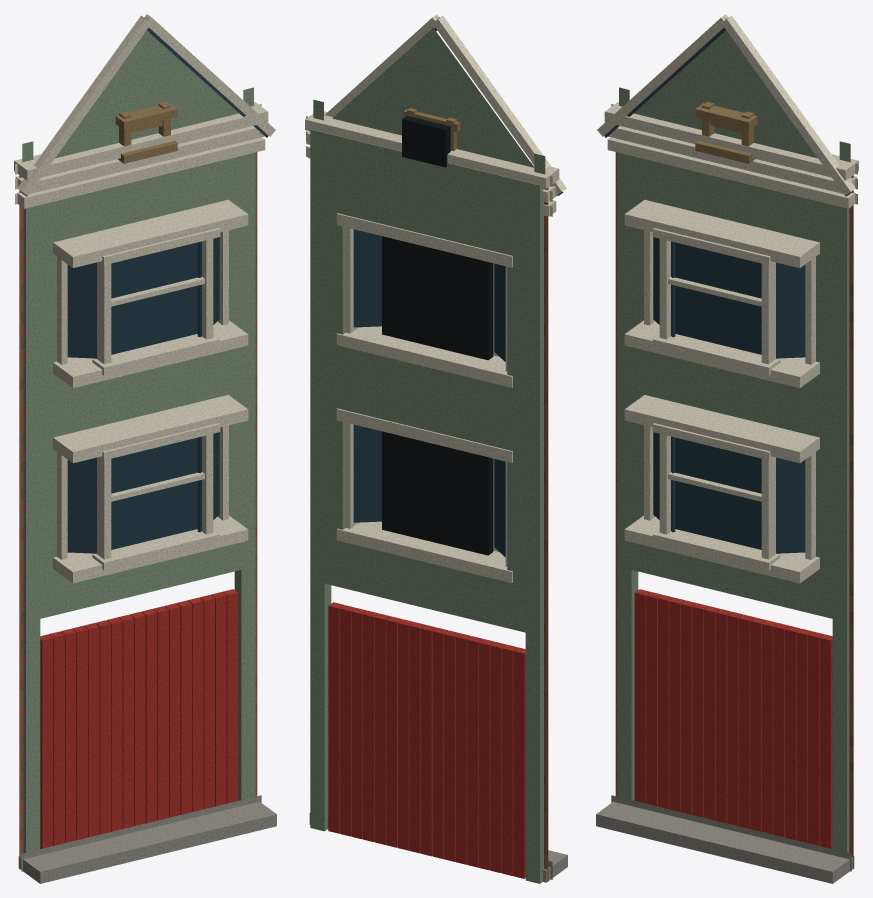
Rendered from VICT12_lod2.glb.
The picture shows the model from 3 angles, left to right: view 1: azimuth 30°, elevation 25°; view 2: azimuth 150°, elevation 25°; view 3: azimuth 330°, elevation 25°; orthographic projection.
Parts seen in each view (by area): view 1: VICT12_FRONT_LOD2; view 2: VICT12_FRONT_LOD2; view 3: VICT12_FRONT_LOD2.
Part boxes in pixels (left/top/right/bottom): VICT12_FRONT_LOD2: left=14, top=14, right=276, bottom=883; VICT12_FRONT_LOD2: left=305, top=14, right=567, bottom=883; VICT12_FRONT_LOD2: left=596, top=14, right=858, bottom=883.
Size of the model in its own units: 3.54 by 11.06 by 0.705.
Materials: 10 (8 with a texture image).
